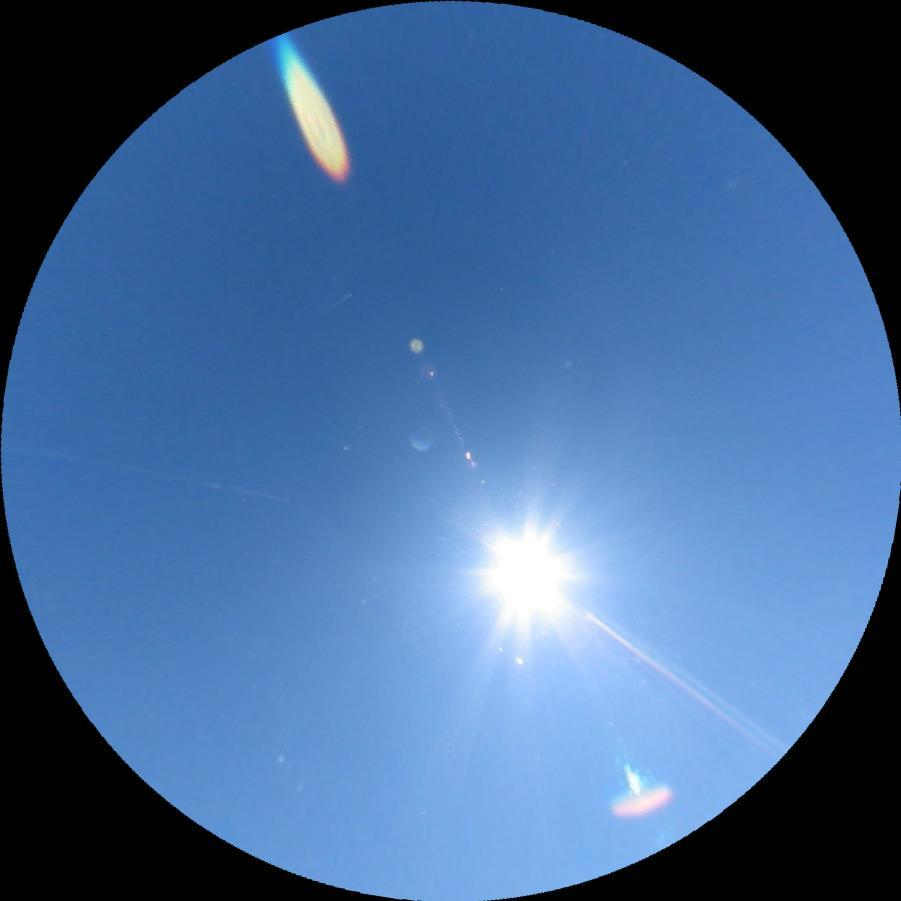contrail young: (328, 290, 352, 309)
parasite: (554, 592, 796, 761), (2, 440, 288, 502)
sun: (460, 510, 586, 638)
